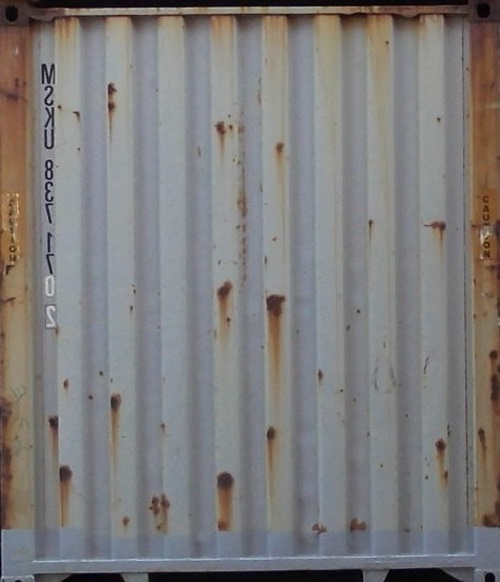container_no_door: (2, 4, 496, 574)
